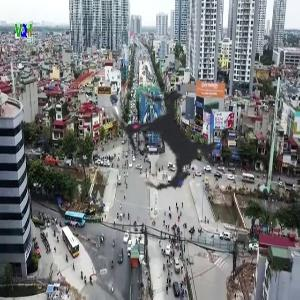drone: (71, 48, 259, 236)
